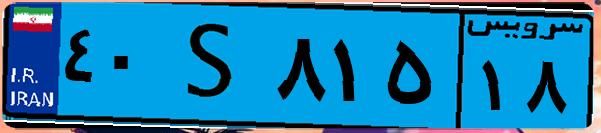0: (110, 28, 158, 98)
1: (330, 28, 385, 110), (475, 38, 525, 113)
4: (57, 26, 110, 100)
5: (385, 28, 445, 110)
8: (270, 28, 330, 110), (525, 38, 570, 115)
S: (158, 12, 270, 120)
